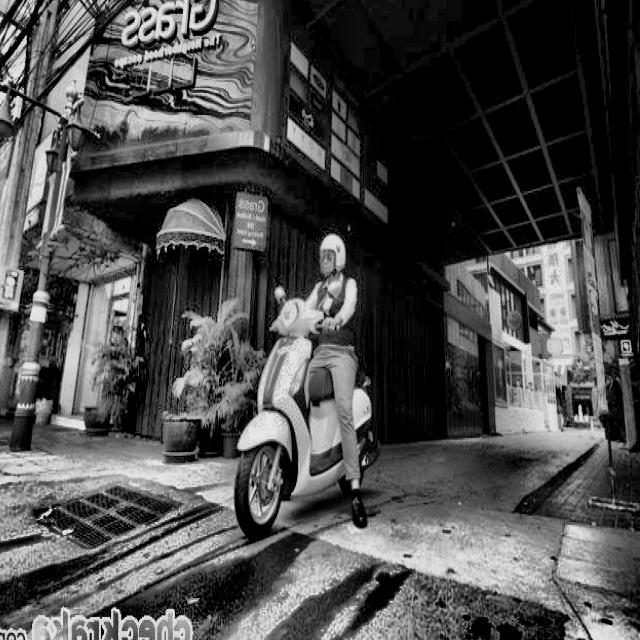Helmet: (312, 221, 351, 305)
